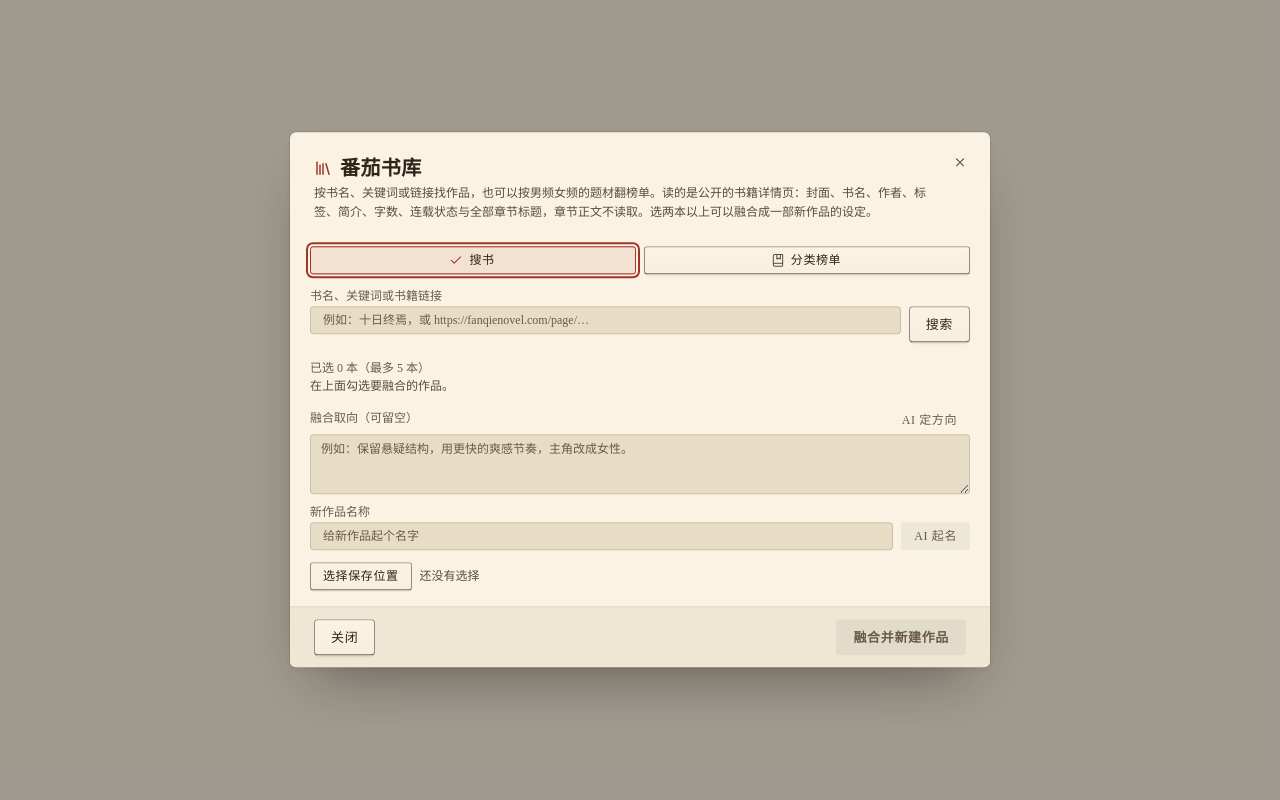
Test case: 番茄书库 › 勾选之后给出这套组合的题材、规模与风险提示
The width and height of the screenshot is (1280, 800).
In the field labelled "书名、关键词或书籍链接": (605, 321) [310, 307, 901, 335], type "十日终焉"
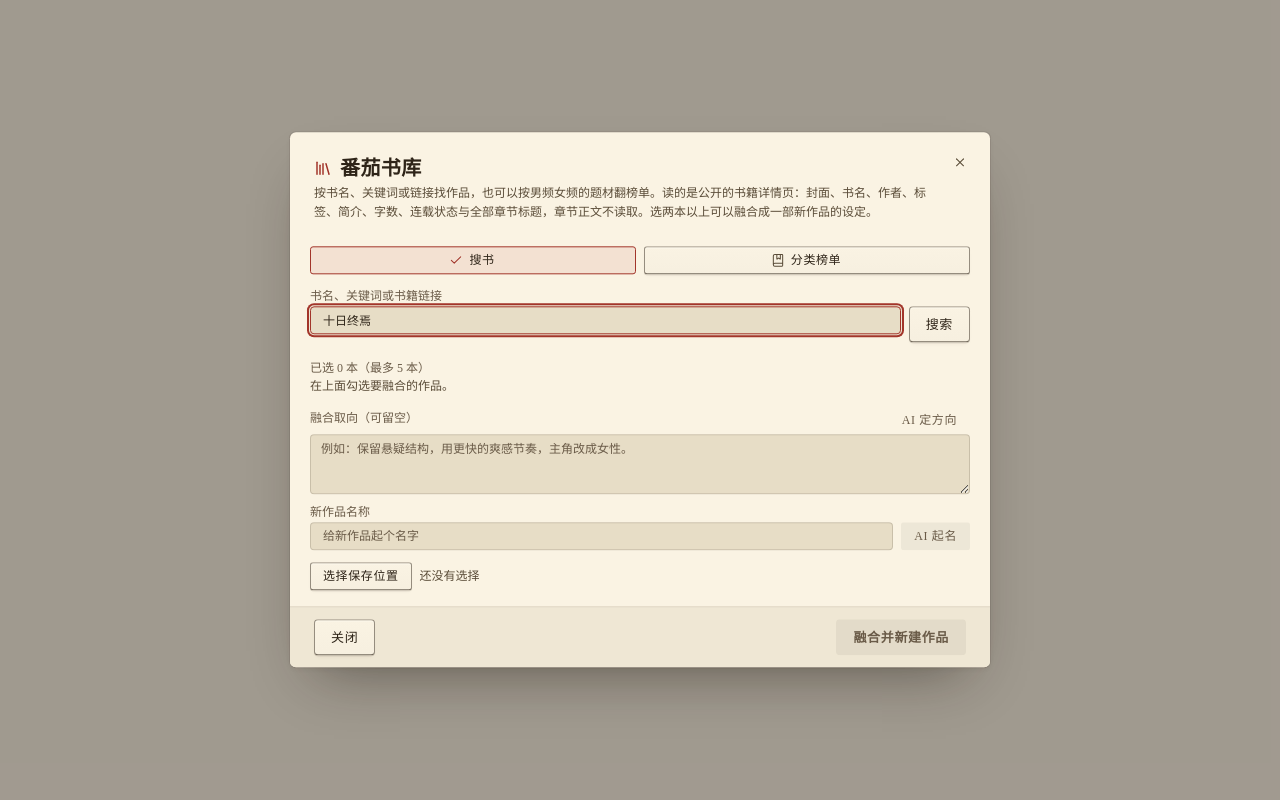
Click the button "搜索": (939, 325) [909, 307, 970, 343]
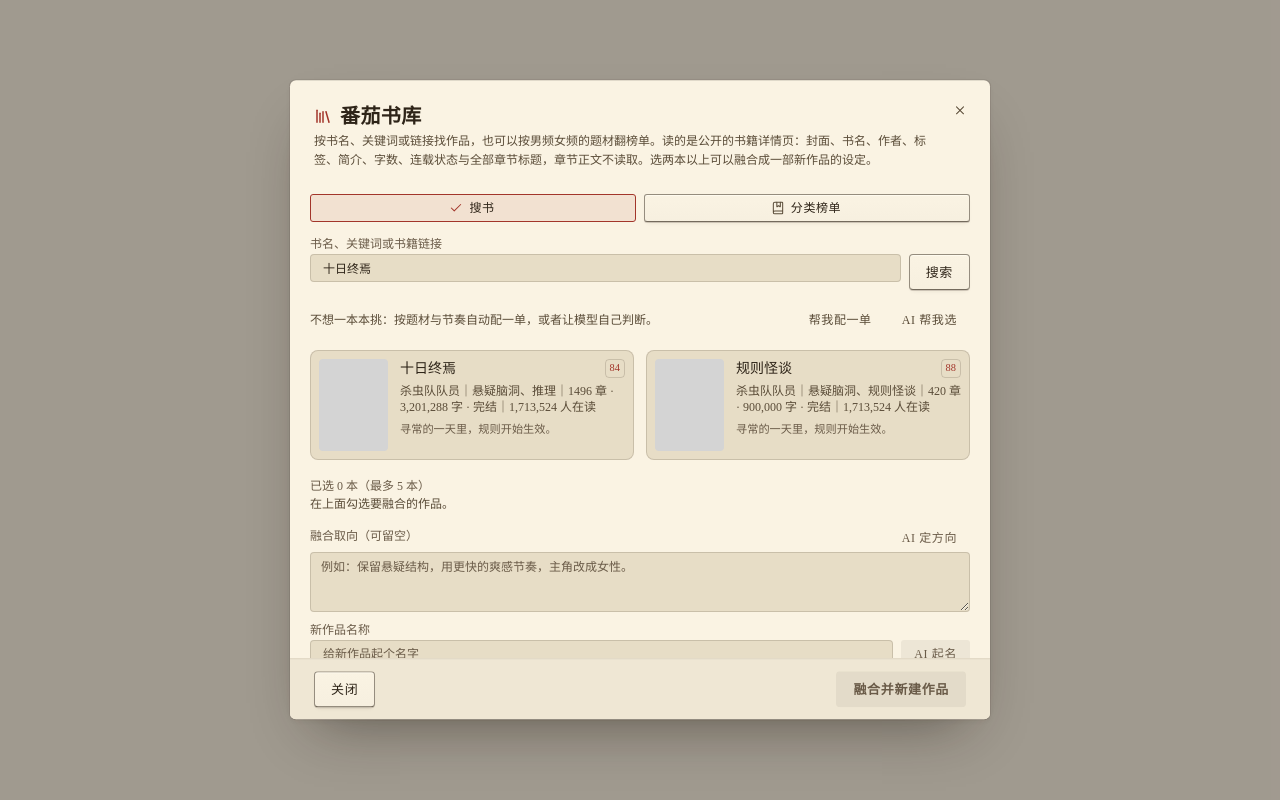
Click the text "十日终焉": (428, 369) [400, 362, 456, 377]
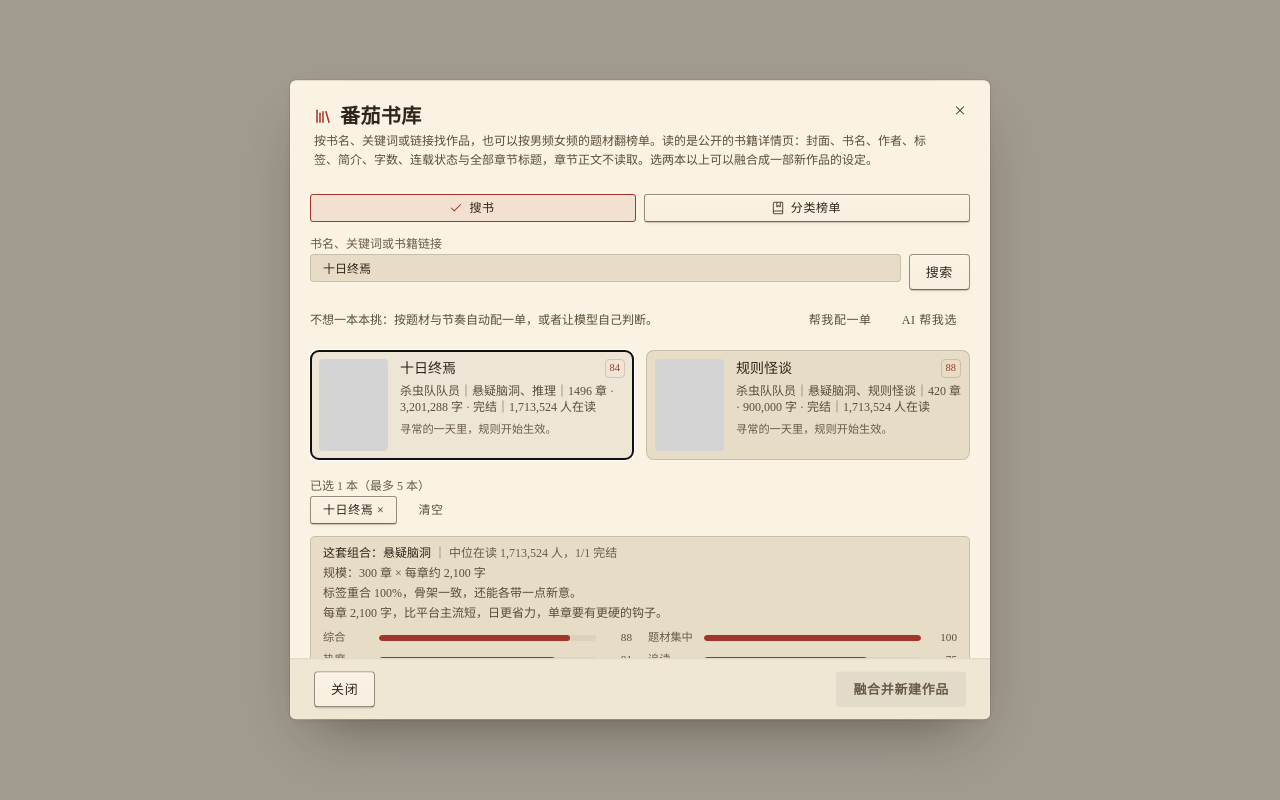
Click the text "规则怪谈": (764, 369) [736, 362, 792, 377]
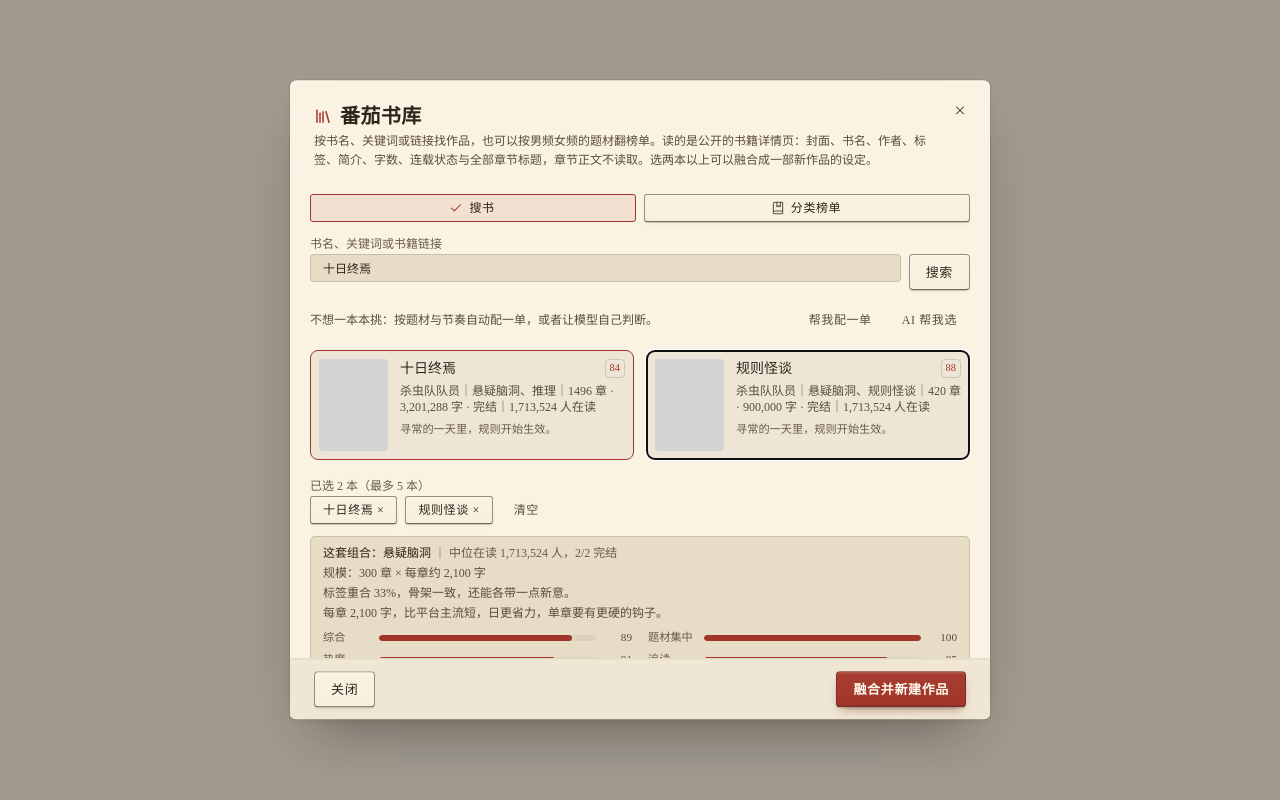
Result: the text "这套组合：悬疑脑洞 ｜ 中位在读 1,713,524 人，2/2 完结" is shown at [323, 547, 617, 561]
Result: the text "规模：300 章 × 每章约 2,100 字" is shown at [323, 567, 486, 581]
Result: the text "标签重合 33%，骨架一致，还能各带一点新意。" is shown at [323, 587, 576, 601]
